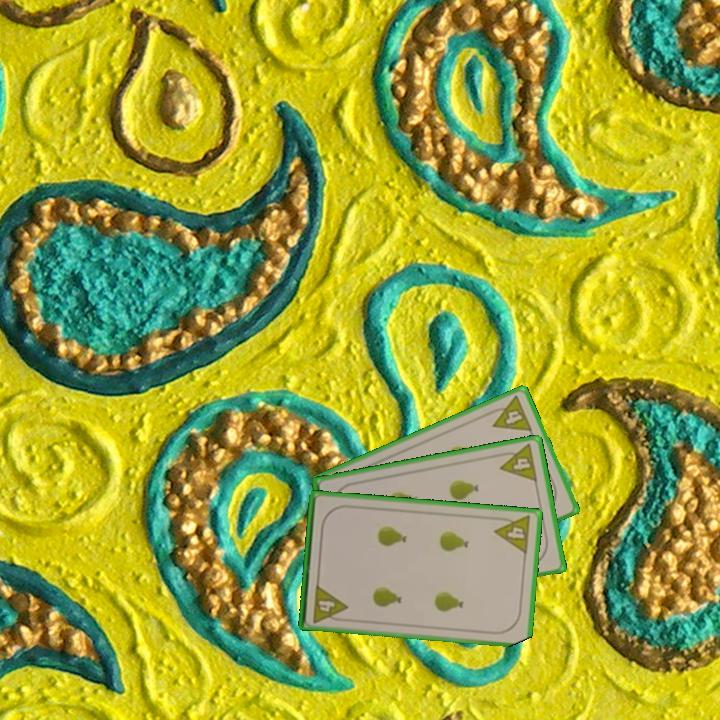4p: (484, 392, 535, 434), (494, 440, 540, 485), (491, 512, 534, 557), (309, 581, 350, 626)
